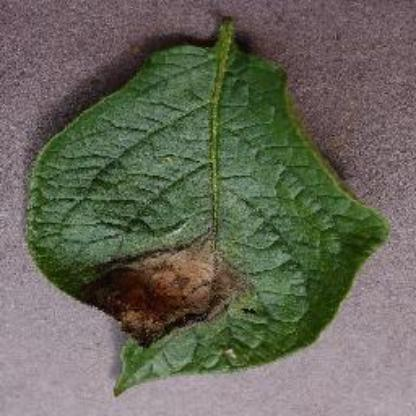Late-Blight: (27, 37, 392, 400)
